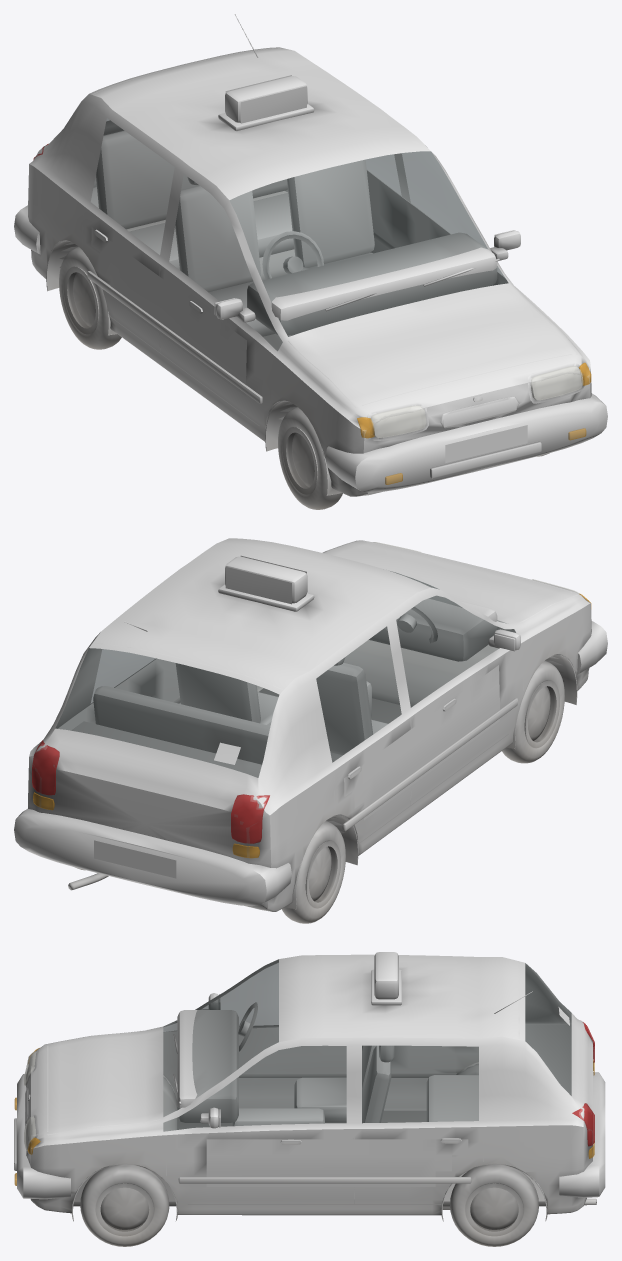
The model's file is taxi_hatch.glb.
3 renders of one model, top to bottom at view 1: azimuth 30°, elevation 25°; view 2: azimuth 150°, elevation 25°; view 3: azimuth 270°, elevation 25°, orthographic. The views are drawn at different scales.
Parts seen in each view (by area): view 1: taxi_hatch_body, wheel_front_L, wheel_rear_L; view 2: taxi_hatch_body, wheel_rear_L, wheel_front_L; view 3: taxi_hatch_body, wheel_front_R, wheel_rear_R.
Boxes of the visible parts, left/top/right/bottom form: taxi_hatch_body: left=14, top=14, right=607, bottom=496; wheel_front_L: left=278, top=407, right=342, bottom=509; wheel_rear_L: left=59, top=247, right=121, bottom=349; taxi_hatch_body: left=14, top=538, right=607, bottom=911; wheel_rear_L: left=281, top=821, right=345, bottom=923; wheel_front_L: left=502, top=661, right=564, bottom=763; taxi_hatch_body: left=14, top=952, right=605, bottom=1221; wheel_front_R: left=80, top=1164, right=169, bottom=1246; wheel_rear_R: left=450, top=1164, right=538, bottom=1246.
Size of what is drawn, in the model's own units: 1.92 by 1.69 by 3.86.
